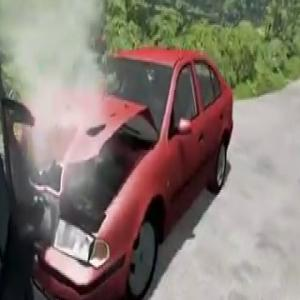moderate: (0, 0, 236, 300)
